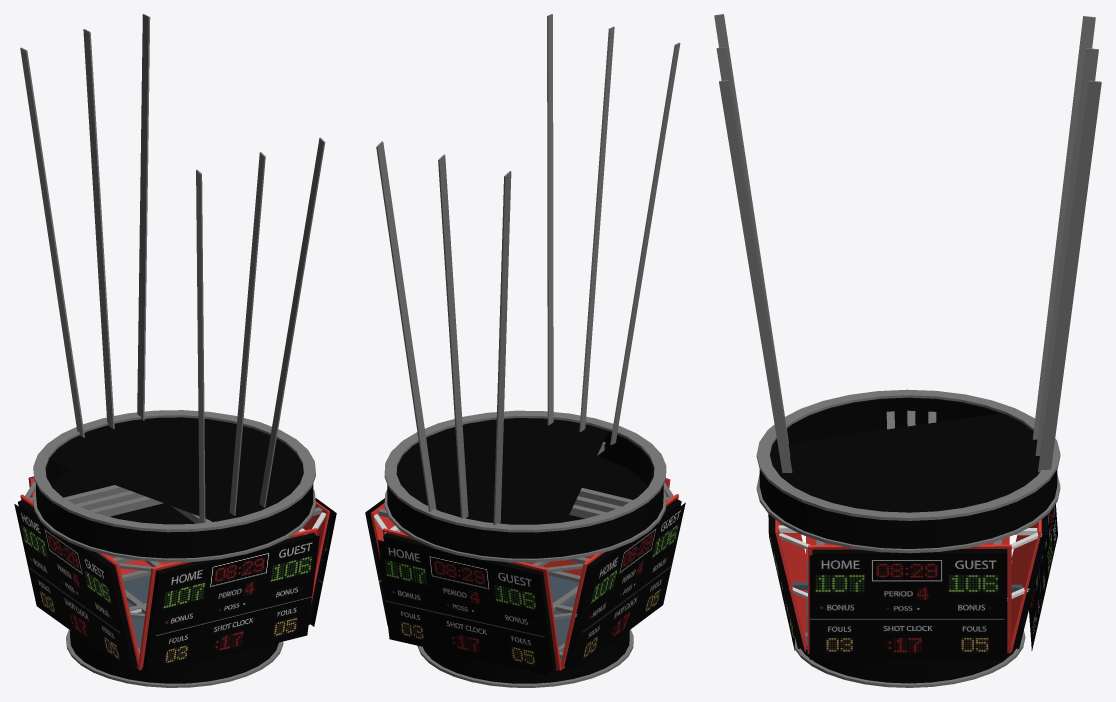
The model's file is basketball scoreboard.fbx.
The picture shows the model from 3 angles, left to right: view 1: azimuth 30°, elevation 25°; view 2: azimuth 150°, elevation 25°; view 3: azimuth 270°, elevation 25°; orthographic projection. The views are drawn at different scales.
Parts seen in each view (by area): view 1: Cylinder.010, Plane.007, Plane.006, Cylinder.009, Cylinder.007, Cube.066, Cube.065, Cube.067, Cube.063, Cube.061, Cube.064, Cube (+8 smaller); view 2: Cylinder.010, Plane.014, Plane.006, Cylinder.009, Cylinder.007, Cube.066, Cube.065, Cube.063, Cube.067, Cube.061, Cube.064, Cube.018 (+6 smaller); view 3: Cylinder.010, Plane.015, Cylinder.009, Cube.066, Cube.063, Cylinder.007, Cube.067, Cube.065, Cylinder.008, Cube.017, Cube.019, Cube.014 (+7 smaller).
Boxes of the visible parts, x1,y1,x2,y2 form: Cylinder.010: (36,417,313,558); Plane.007: (151,536,319,674); Plane.006: (14,504,128,671); Cylinder.009: (33,410,315,532); Cylinder.007: (70,630,278,683); Cube.066: (137,14,150,420); Cube.065: (83,29,114,428); Cube.067: (20,47,84,437); Cube.063: (259,137,325,507); Cube.061: (229,152,265,515); Cube.064: (196,169,205,523); Cube: (18,499,137,668); Cylinder.010: (387,418,663,558); Plane.014: (378,540,548,675); Plane.006: (574,502,685,671); Cylinder.009: (384,410,666,532); Cylinder.007: (423,630,629,683); Cube.066: (376,141,436,511); Cube.065: (438,154,468,518); Cube.063: (547,14,553,425); Cube.067: (493,171,511,524); Cube.061: (579,26,614,432); Cube.064: (610,42,680,444); Cube.018: (383,533,556,671); Cylinder.010: (759,397,1057,548); Plane.015: (809,555,1004,659); Cylinder.009: (756,389,1060,520); Cube.066: (1038,80,1101,471); Cube.063: (719,80,792,472); Cylinder.007: (801,648,1015,683); Cube.067: (1032,16,1095,439); Cube.065: (1035,48,1098,455); Cylinder.008: (756,474,1060,553); Cube.017: (775,519,807,651); Cube.019: (1011,519,1041,651); Cube.014: (812,549,1007,655).
Size of the model in its own units: 309 by 664 by 394.
Materials: 5 (1 with a texture image).
